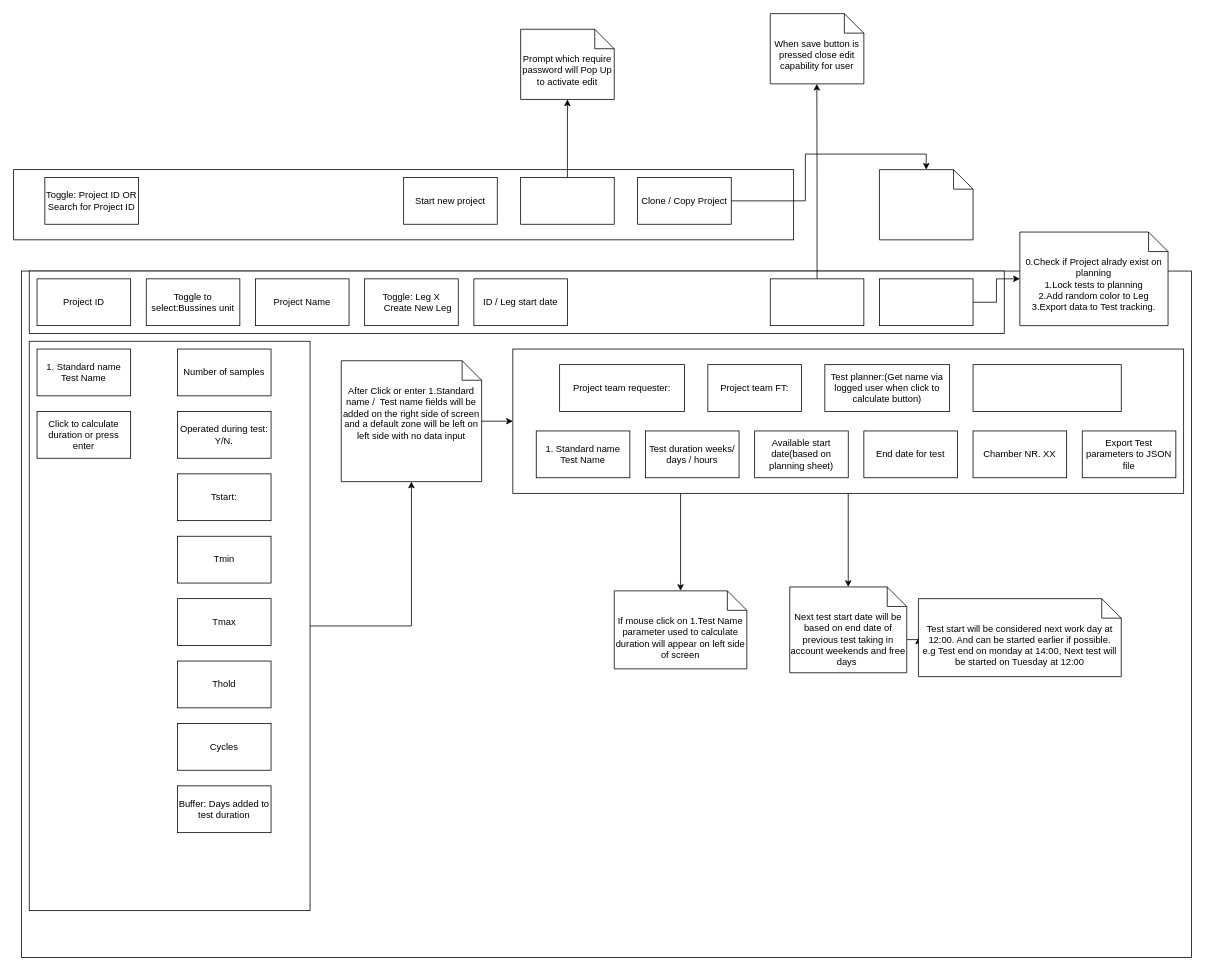
Some shapes in this 1205 by 971 pixel diagram are drawn without their labels. Each missing label, with the box of its shape:
Edit Project Data: (520, 177, 614, 224)
Export to planning: (879, 278, 973, 326)
New Project with name: Copy of Project ID XXX: (879, 169, 973, 240)
Rel test performer(To be added after qualification start by rel): (972, 364, 1121, 411)
Save: (769, 278, 864, 326)
